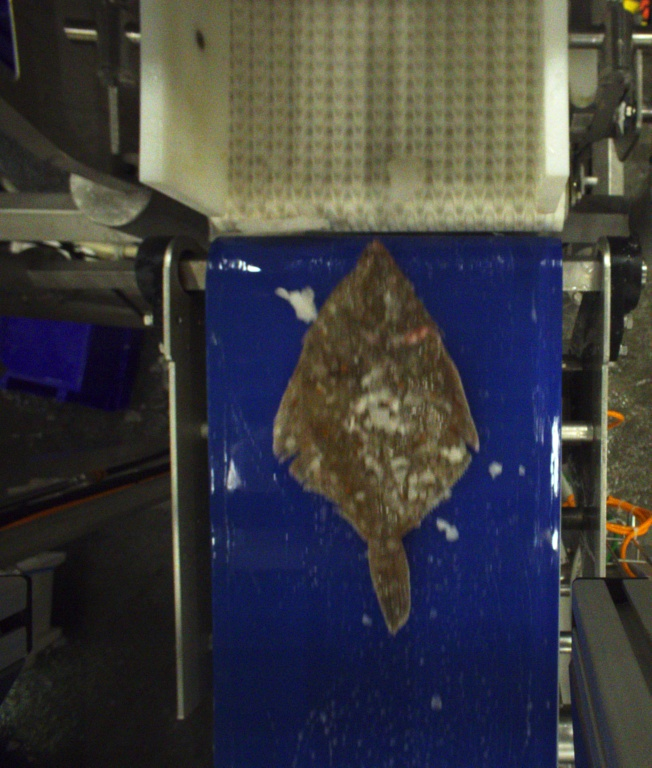PLE: (272, 238, 482, 639)
